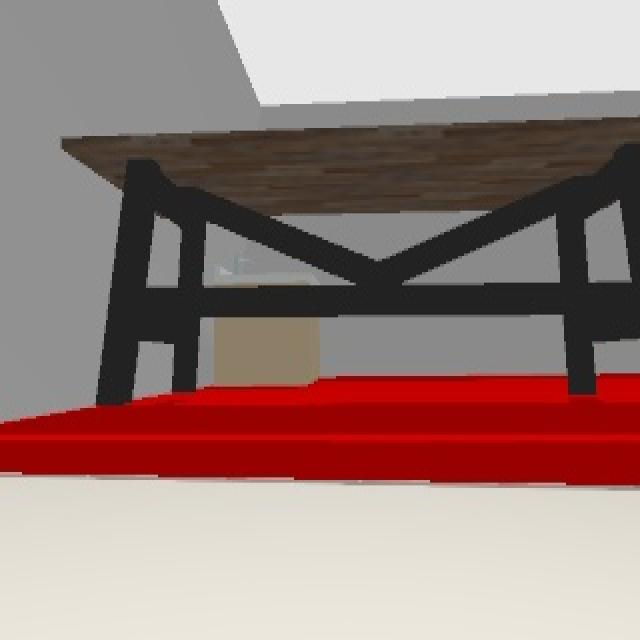dining: (60, 115, 640, 400)
